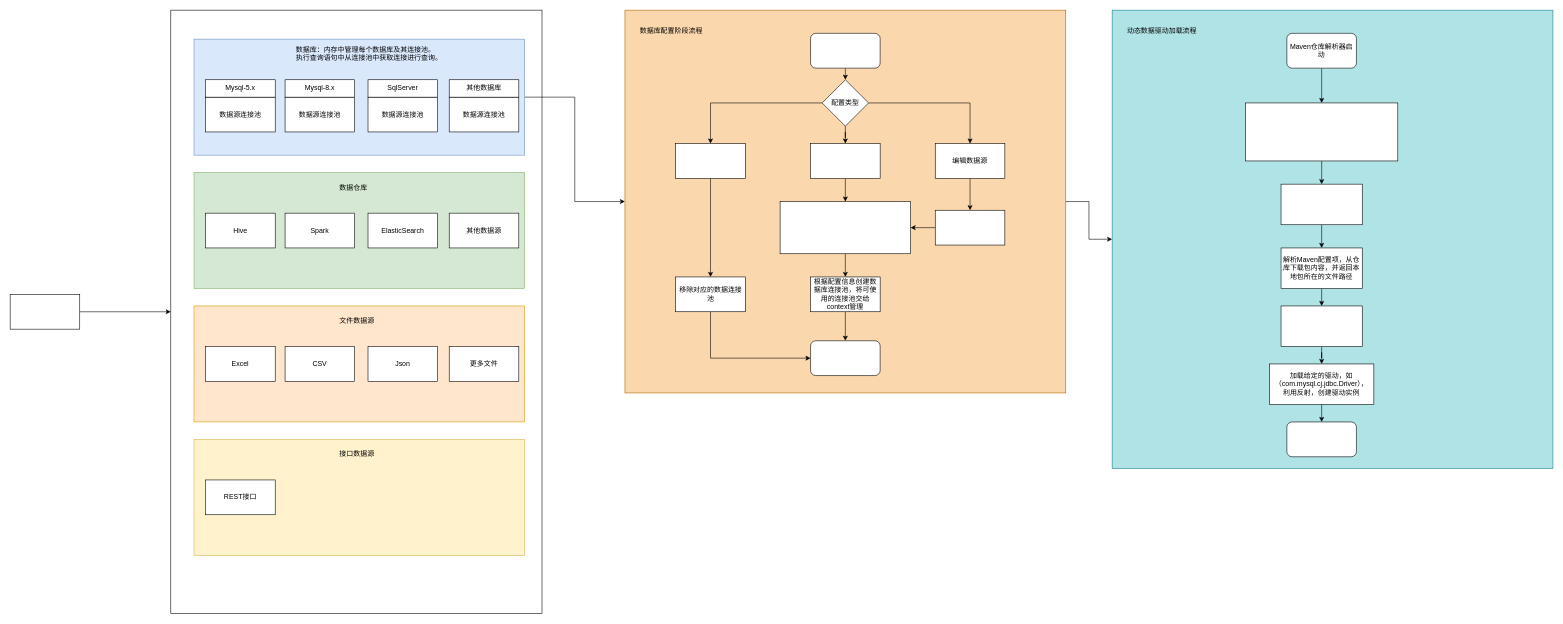
This 1563x624 diagram has some shape labels left out. The shapes that lost their labels are listed below. From the top down, each one's box as (x1, y1, x2, y2) in pixels, then its label:
(810, 33, 880, 68): 数据库配置
(1245, 102, 1398, 161): 加载Maven仓库配置，包含以下配置： 1. 本地仓库地址 2. 中央仓库地址 3. 连接仓库所需的代理信息（非必须） 4. 初始化其它所必须的本地环境信息
(675, 143, 745, 178): 删除数据源
(810, 143, 880, 178): 新增数据源
(1280, 184, 1362, 225): 将给定依赖解析成标准的Maven配置项
(780, 201, 911, 254): 1. 获取数据库IP+port 2. 获取数据库类型 3. 选择数据库驱动（如何动态加载不同的驱动？） 4. 添加额外的配置信息，如时区，编码等
(935, 210, 1005, 245): 关闭原有连接池
(10, 294, 80, 329): 页面配置/使用数据源
(1280, 305, 1362, 347): 根据文件路径，使用ClassLoader将其加载到JVM中
(810, 340, 880, 376): 操作完成
(1286, 421, 1356, 457): 完成驱动加载，后续构建连接池操作数据
